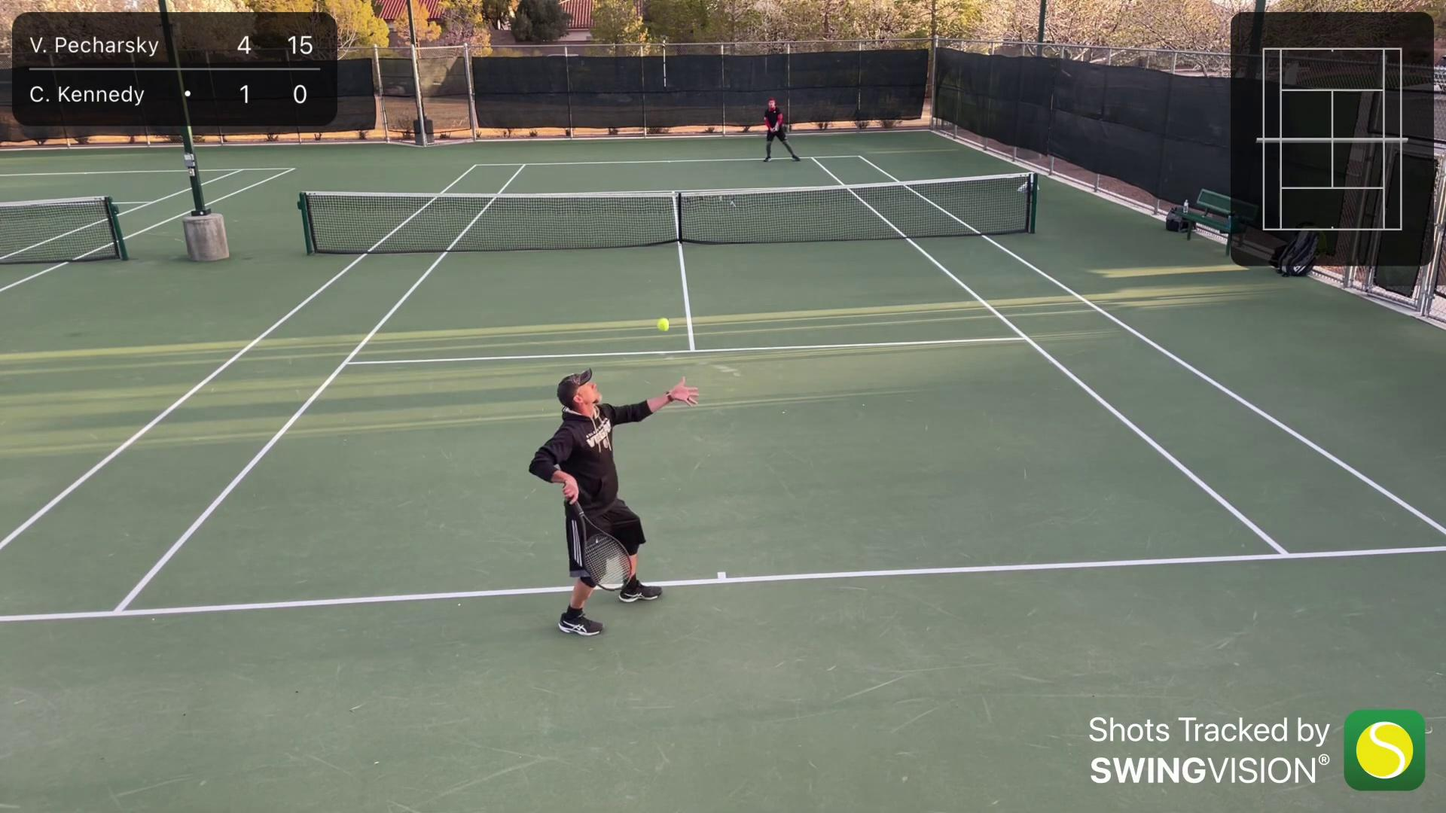ball: (656, 316, 671, 333)
